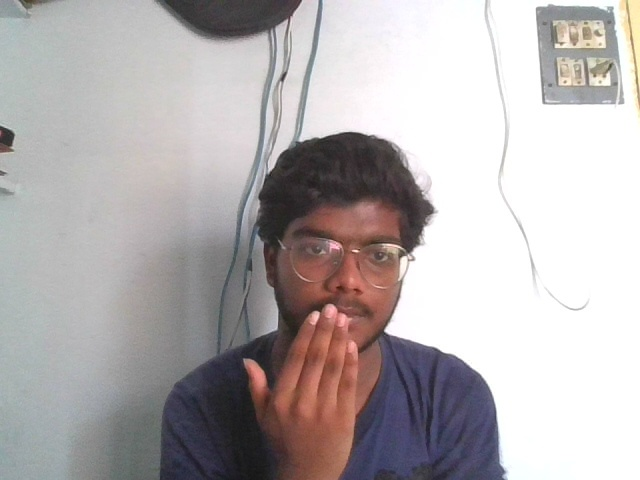Thanks: (241, 300, 362, 468)
